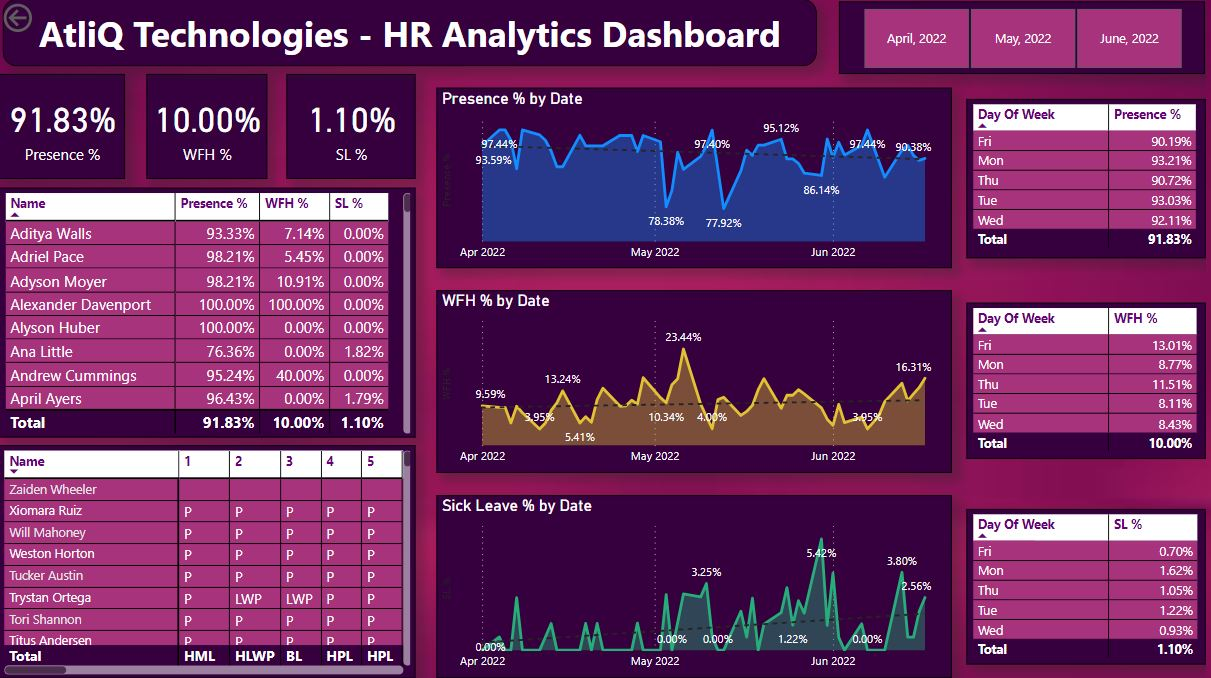

The dashboard page shown, as its layout file describes it:
{"tool":"powerbi","page":{"name":"Page 1","canvas":[1280,720],"ordinal":0},"visuals":[{"type":"card","fields":{"Values":["Measure Table.Presence %"]},"box":[0,79,133.5,111.3],"z":0},{"type":"slicer","fields":{"Values":["Final Data.Month"]},"box":[891.4,2.2,388.4,76.8],"z":1000},{"type":"card","fields":{"Values":["Measure Table.WFH %"]},"box":[156.9,79,128,111.3],"z":2000},{"type":"card","fields":{"Values":["Measure Table.SL %"]},"box":[304.9,79,136.9,111.3],"z":3000},{"type":"tableEx","fields":{"Values":["Final Data.Name","Measure Table.Presence %","Measure Table.WFH %","Measure Table.SL %"]},"box":[0,200.3,441.8,264.9],"z":4000},{"type":"textbox","box":[4.5,0,863.6,71.2],"z":5000},{"type":"pivotTable","fields":{"Rows":["Final Data.Name"],"Columns":["Final Data.Date.Variation.Date Hierarchy.Day"],"Values":["Min(Final Data.Value)"]},"box":[0,473,441.8,247],"z":6000},{"type":"areaChart","title":"Presence % by Date","fields":{"Y":["Measure Table.Presence %"],"Category":["Final Data.Date.Variation.Date Hierarchy.Year","Final Data.Date.Variation.Date Hierarchy.Quarter","Final Data.Date.Variation.Date Hierarchy.Month","Final Data.Date.Variation.Date Hierarchy.Day"]},"box":[464,94.6,546.4,191.4],"z":7000},{"type":"actionButton","box":[0,0,100,40],"z":8000},{"type":"areaChart","title":"WFH % by Date","fields":{"Category":["Final Data.Date.Variation.Date Hierarchy.Year","Final Data.Date.Variation.Date Hierarchy.Quarter","Final Data.Date.Variation.Date Hierarchy.Month","Final Data.Date.Variation.Date Hierarchy.Day"],"Y":["Measure Table.WFH %"]},"box":[464,309.4,546.4,193.6],"z":9000},{"type":"areaChart","title":"Sick Leave % by Date","fields":{"Category":["Final Data.Date.Variation.Date Hierarchy.Year","Final Data.Date.Variation.Date Hierarchy.Quarter","Final Data.Date.Variation.Date Hierarchy.Month","Final Data.Date.Variation.Date Hierarchy.Day"],"Y":["Measure Table.SL %"]},"box":[464,526.4,546.4,193.6],"z":10000},{"type":"tableEx","fields":{"Values":["Final Data.Day Of Week","Measure Table.Presence %"]},"box":[1026,105.7,253.7,169.1],"z":11000},{"type":"tableEx","fields":{"Values":["Final Data.Day Of Week","Measure Table.WFH %"]},"box":[1026,322.7,253.7,165.8],"z":12000},{"type":"tableEx","fields":{"Values":["Final Data.Day Of Week","Measure Table.SL %"]},"box":[1026,540.8,253.7,164.7],"z":13000}]}

Visuals, with their boxes in screenshot pixels (x1, y1, x2, y2), scaled from the page's 1280x720 canvas onto the 1211x678 screenshot:
card - Measure Table.Presence %: box(0, 74, 126, 179)
slicer - Final Data.Month: box(843, 2, 1210, 74)
card - Measure Table.WFH %: box(148, 74, 270, 179)
card - Measure Table.SL %: box(288, 74, 418, 179)
tableEx - Final Data.Name x Measure Table.Presence %: box(0, 189, 418, 438)
textbox: box(4, 0, 821, 67)
pivotTable - Final Data.Name x Final Data.Date.Variation.Date Hierarchy.Day: box(0, 445, 418, 677)
"Presence % by Date" areaChart: box(439, 89, 956, 269)
actionButton: box(0, 0, 95, 38)
"WFH % by Date" areaChart: box(439, 291, 956, 474)
"Sick Leave % by Date" areaChart: box(439, 496, 956, 677)
tableEx - Final Data.Day Of Week x Measure Table.Presence %: box(971, 100, 1210, 259)
tableEx - Final Data.Day Of Week x Measure Table.WFH %: box(971, 304, 1210, 460)
tableEx - Final Data.Day Of Week x Measure Table.SL %: box(971, 509, 1210, 664)
